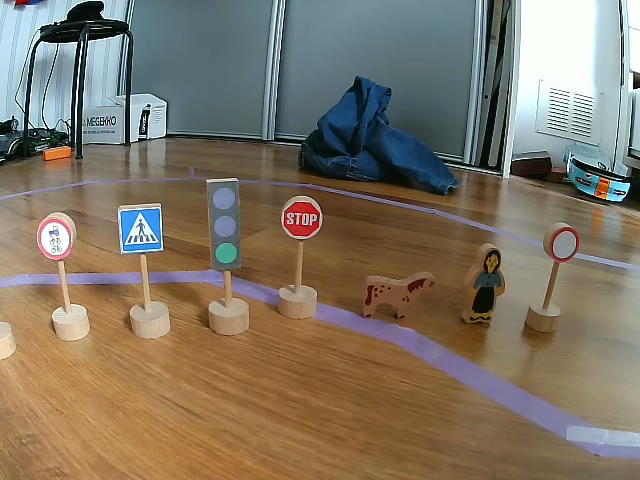fietspad: (37, 215, 70, 260)
groenlicht: (205, 178, 242, 275)
mens: (461, 245, 504, 320)
paard: (358, 271, 436, 320)
stopbord: (282, 198, 323, 238)
wegdicht: (550, 224, 579, 262)
zebrapad: (121, 204, 165, 253)
